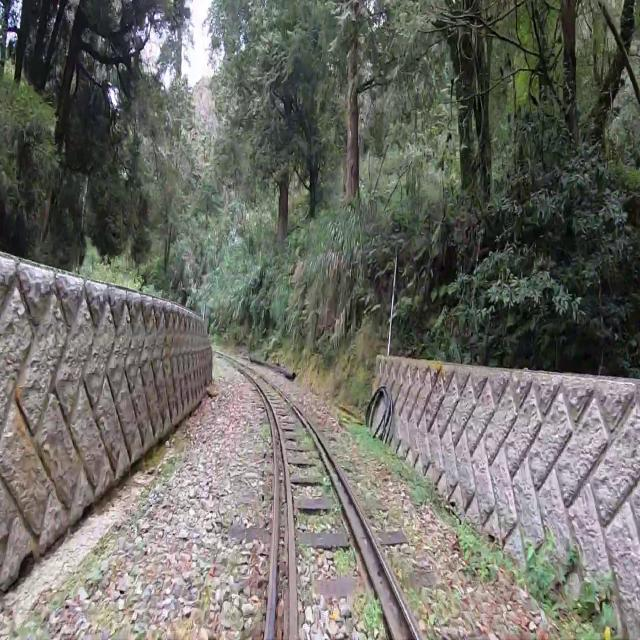rail-track: (250, 372, 390, 639), (326, 454, 414, 639), (270, 423, 288, 639)
